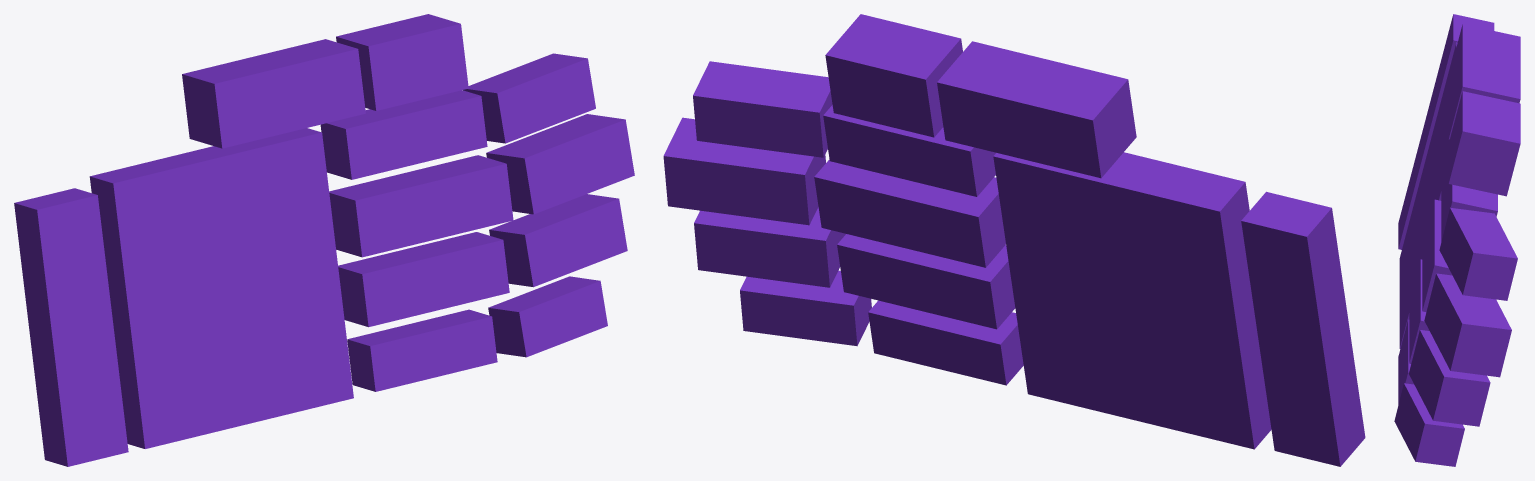
File: hand3(4).fbx
The picture shows the model from 3 angles, left to right: view 1: azimuth 30°, elevation 25°; view 2: azimuth 150°, elevation 25°; view 3: azimuth 270°, elevation 25°; orthographic projection. The views are drawn at different scales.
Parts seen in each view (by area): view 1: Cube.008, Cube.009, Cube.011, Cube, Cube.003, Cube.007, Cube.001, Cube.010, Cube.004, Cube.002, Cube.006, Cube.005; view 2: Cube.008, Cube.009, Cube.011, Cube, Cube.010, Cube.001, Cube.006, Cube.003, Cube.002, Cube.004, Cube.007, Cube.005; view 3: Cube.010, Cube.001, Cube.006, Cube.011, Cube.002, Cube.008, Cube.005, Cube.009, Cube, Cube.007, Cube.003, Cube.004.
Part boxes in pixels (<box>): Cube.008: <box>89,128,353,448</box>; Cube.009: <box>14,188,128,466</box>; Cube.011: <box>182,39,365,148</box>; Cube: <box>329,155,513,257</box>; Cube.003: <box>338,232,509,327</box>; Cube.007: <box>320,90,487,179</box>; Cube.001: <box>486,114,634,214</box>; Cube.010: <box>336,14,468,110</box>; Cube.004: <box>347,309,497,391</box>; Cube.002: <box>489,194,627,287</box>; Cube.006: <box>463,53,595,143</box>; Cube.005: <box>488,276,607,357</box>; Cube.008: <box>993,152,1271,449</box>; Cube.009: <box>1241,191,1365,466</box>; Cube.011: <box>937,41,1136,178</box>; Cube: <box>814,159,1005,267</box>; Cube.010: <box>825,14,962,137</box>; Cube.001: <box>663,117,825,225</box>; Cube.006: <box>693,61,832,157</box>; Cube.003: <box>837,234,1015,329</box>; Cube.002: <box>694,207,845,287</box>; Cube.004: <box>868,300,1023,385</box>; Cube.007: <box>823,105,995,196</box>; Cube.005: <box>740,270,871,346</box>; Cube.010: <box>1448,91,1520,196</box>; Cube.001: <box>1424,273,1511,377</box>; Cube.006: <box>1439,207,1517,300</box>; Cube.011: <box>1448,24,1520,139</box>; Cube.002: <box>1409,330,1490,426</box>; Cube.008: <box>1399,42,1457,348</box>; Cube.005: <box>1394,383,1464,466</box>; Cube.009: <box>1398,14,1494,249</box>; Cube: <box>1422,199,1452,311</box>; Cube.007: <box>1441,157,1497,241</box>; Cube.003: <box>1409,259,1429,363</box>; Cube.004: <box>1398,319,1413,404</box>.
Bounding box in the file's own units: 432 × 224 × 88.9.
